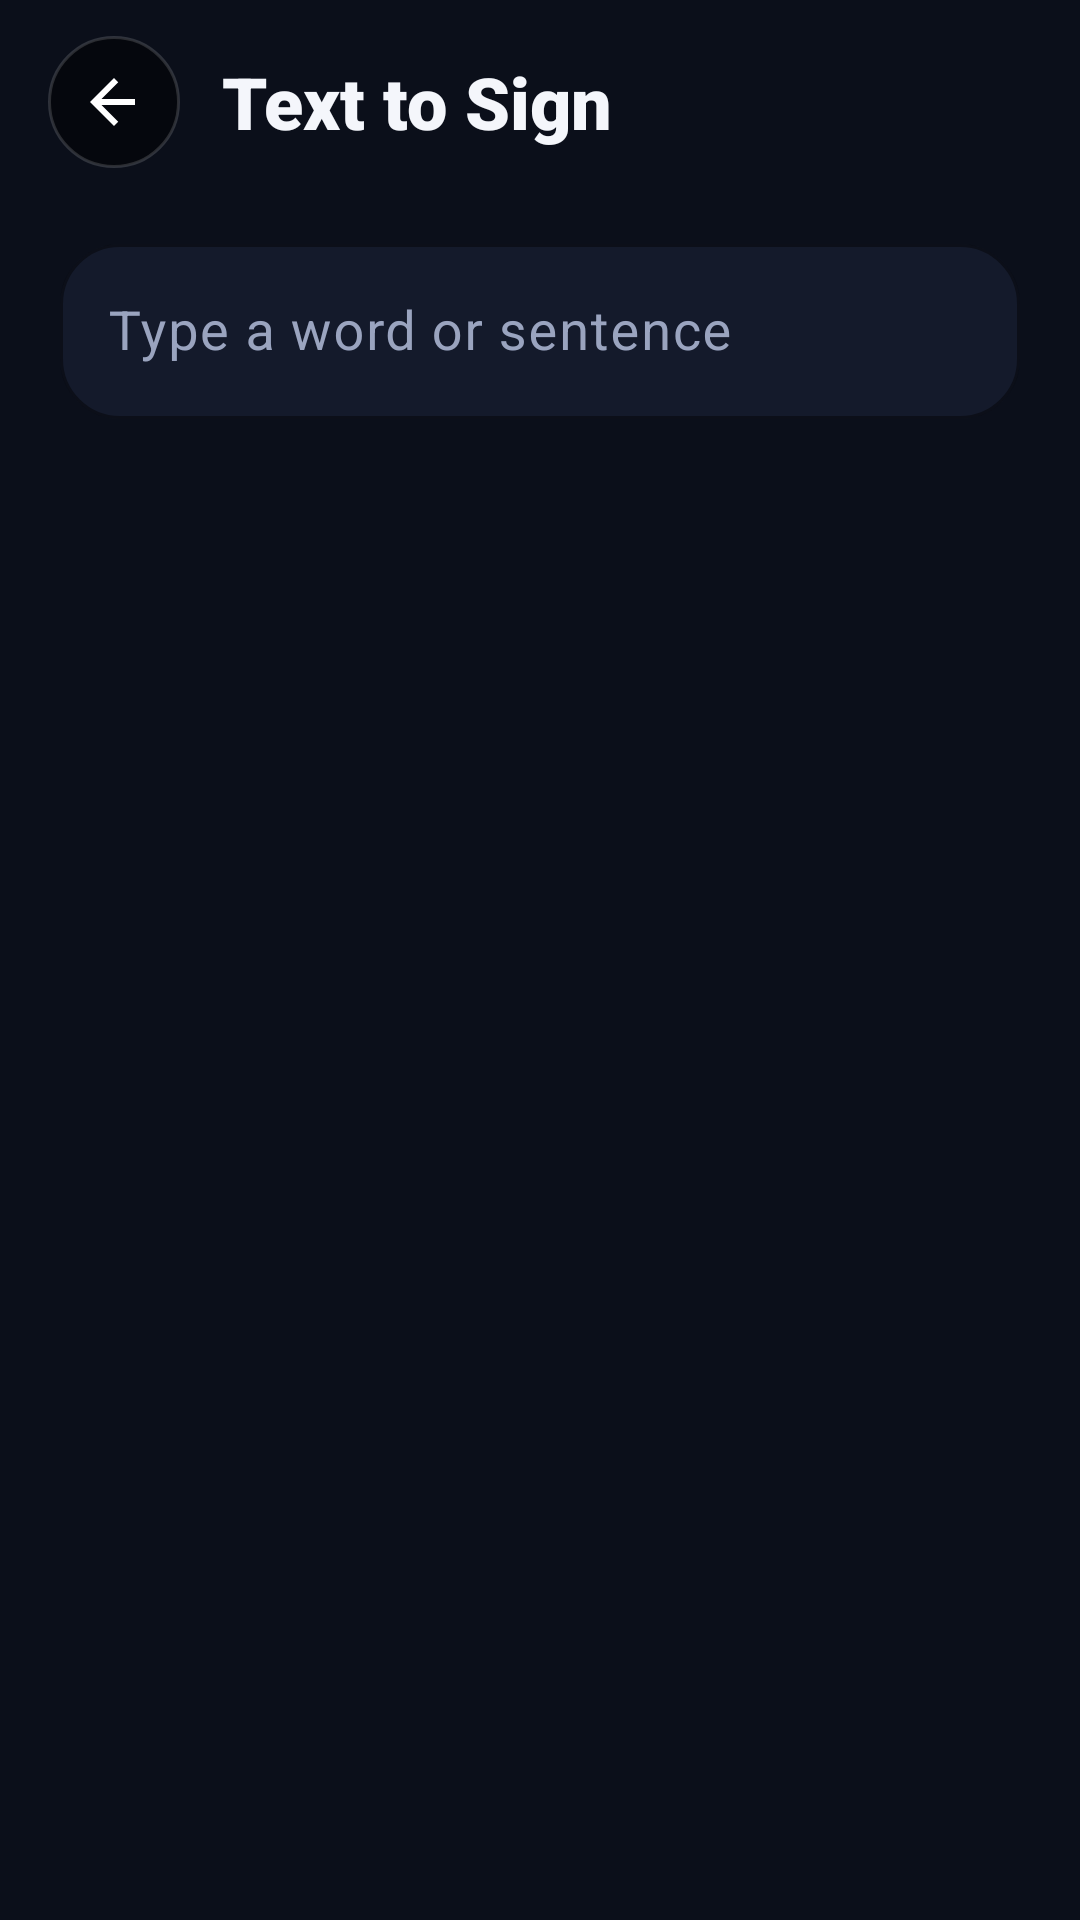

Icons on this 1080px×1920px Android screen, each with the point to tap as point (x, y):
Back: point (114, 102)
